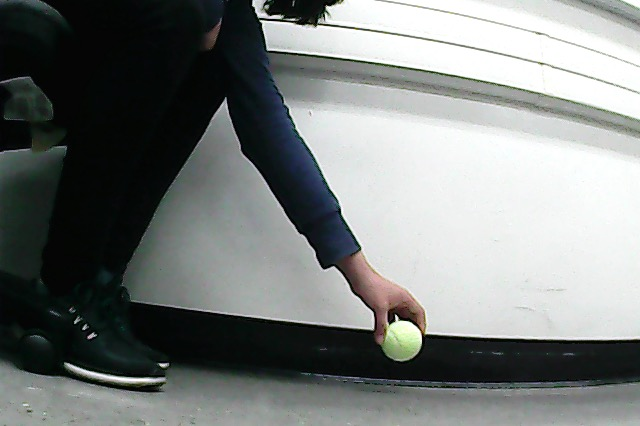ball: (381, 321, 423, 361)
